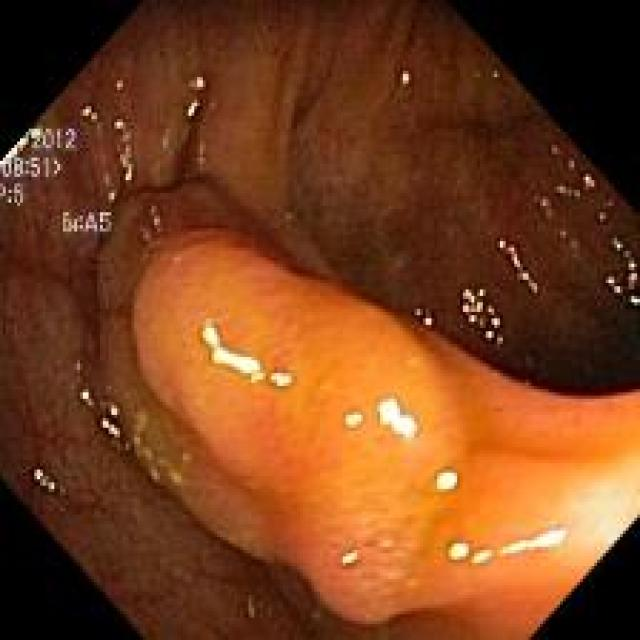Polyps: (99, 183, 640, 638)
